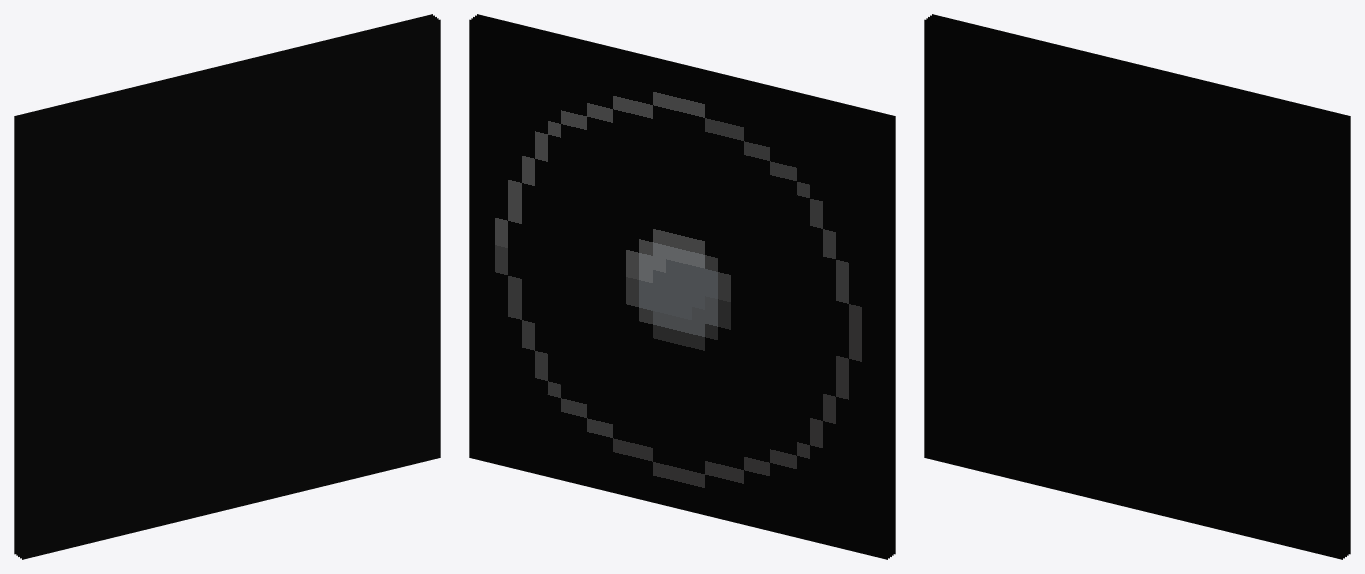
Rendered from shield_2.gltf.
3 views of the same model, side by side, from view 1: azimuth 30°, elevation 25°; view 2: azimuth 150°, elevation 25°; view 3: azimuth 330°, elevation 25° (orthographic).
Parts seen in each view (by area): view 1: cube (×5); view 2: cube (×5); view 3: cube (×5).
Boxes of the visible parts, x1,y1,x2,y2 form: cube (×5): (14, 14, 440, 559); cube (×5): (469, 14, 895, 559); cube (×5): (924, 14, 1350, 559).
Size of the model in its own units: 2 by 2 by 0.0626.
Materials: 1 (1 with a texture image).
